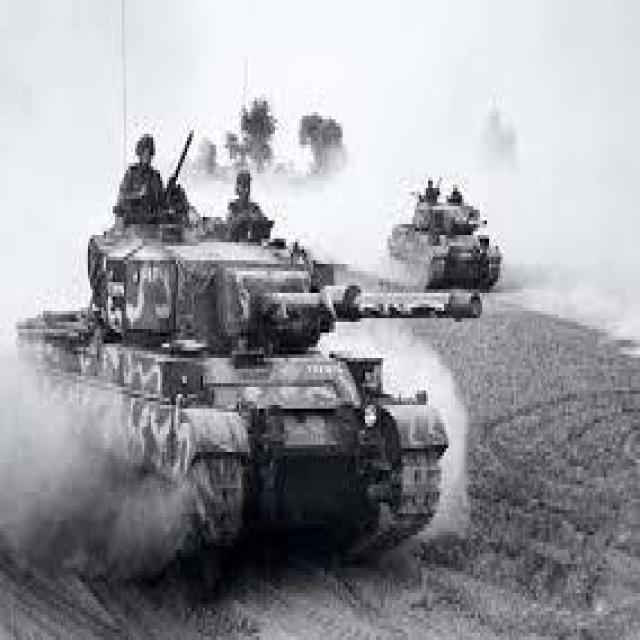Tanks: (45, 228, 500, 560), (392, 181, 500, 271)
